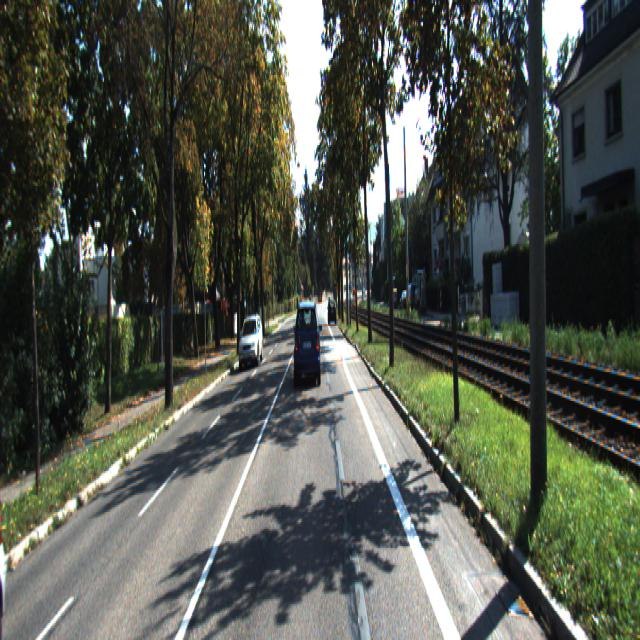Car: (293, 303, 322, 393), (238, 314, 264, 370), (328, 298, 337, 323)
